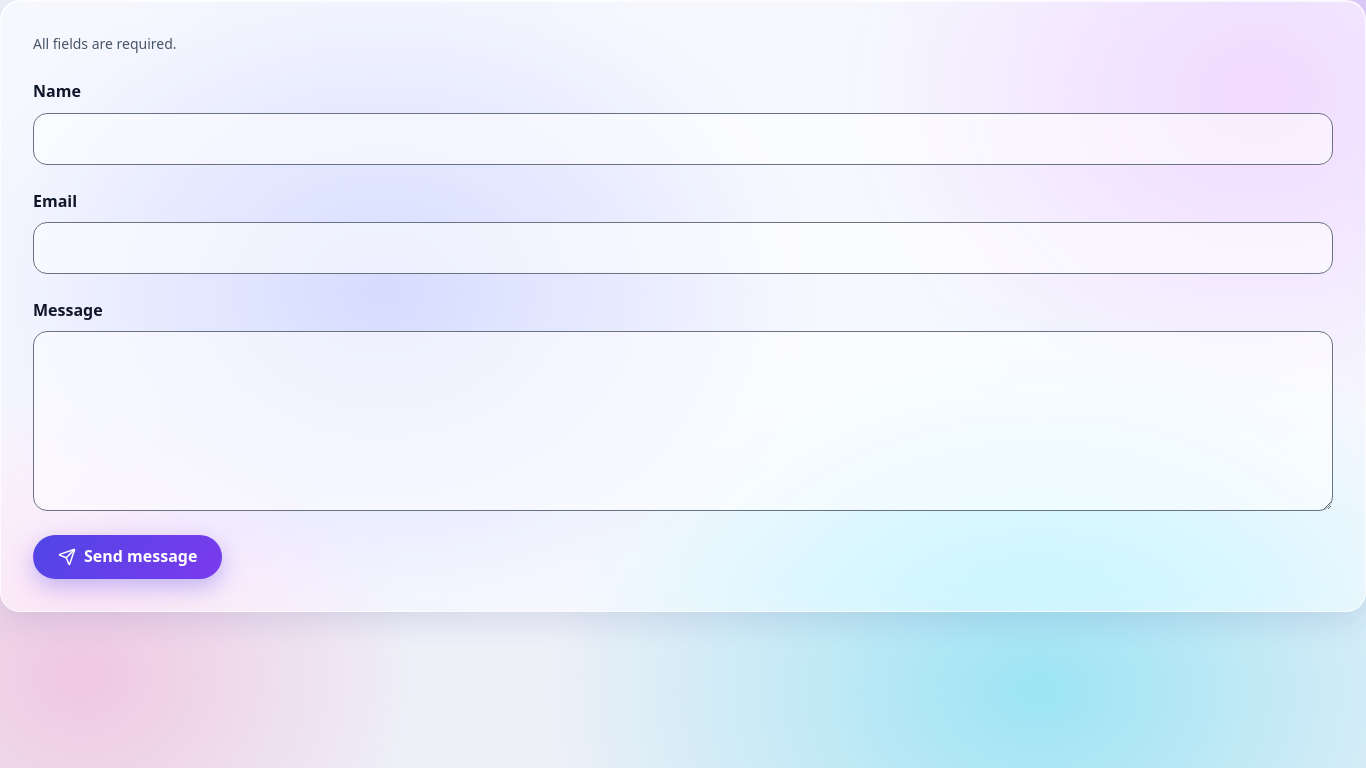
Test: ContactForm › reports a delivery failure honestly, keeps the text, and offers the direct email
Type "Priya" into the field labelled "Name".
click(683, 139); type("Priya")  # box [33,113,1333,165]
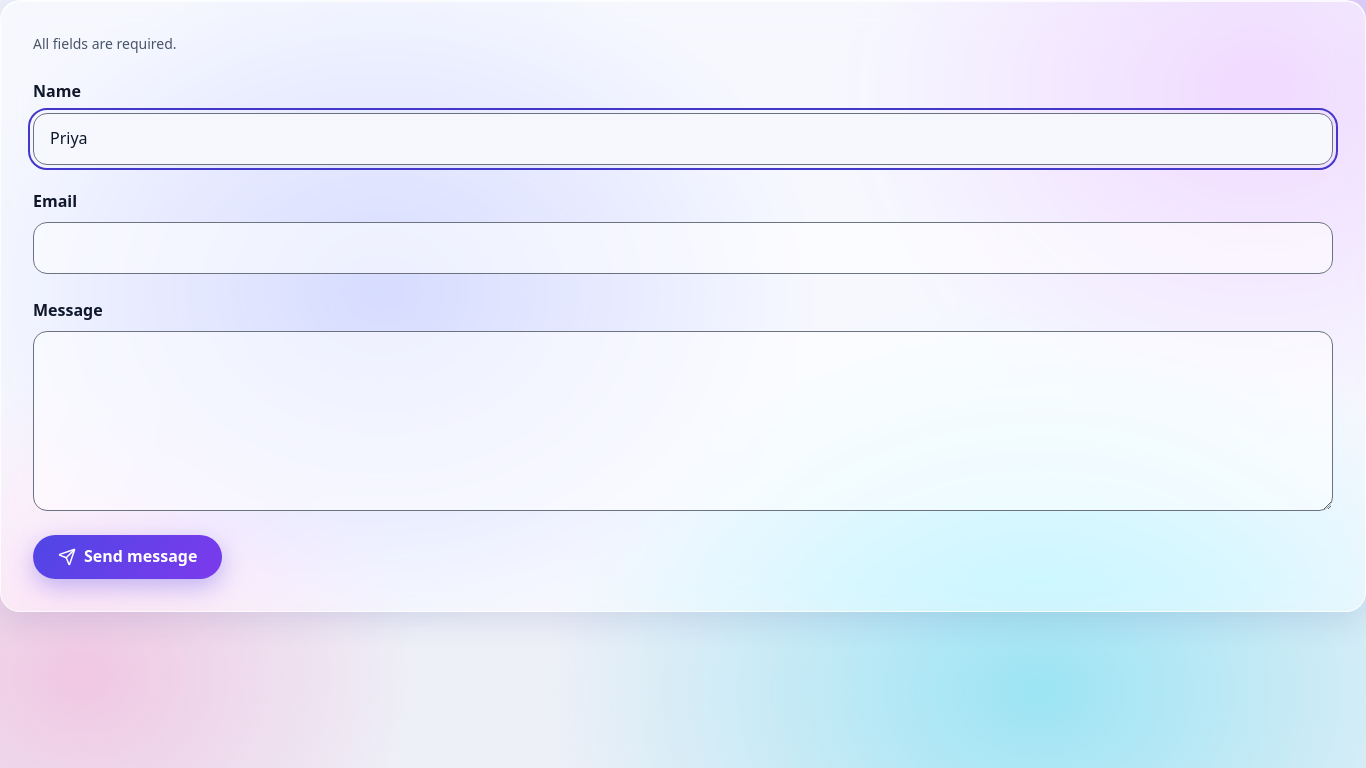
Type "priya@example.com" into the field labelled "Email".
click(683, 248); type("priya@example.com")  # box [33,222,1333,274]
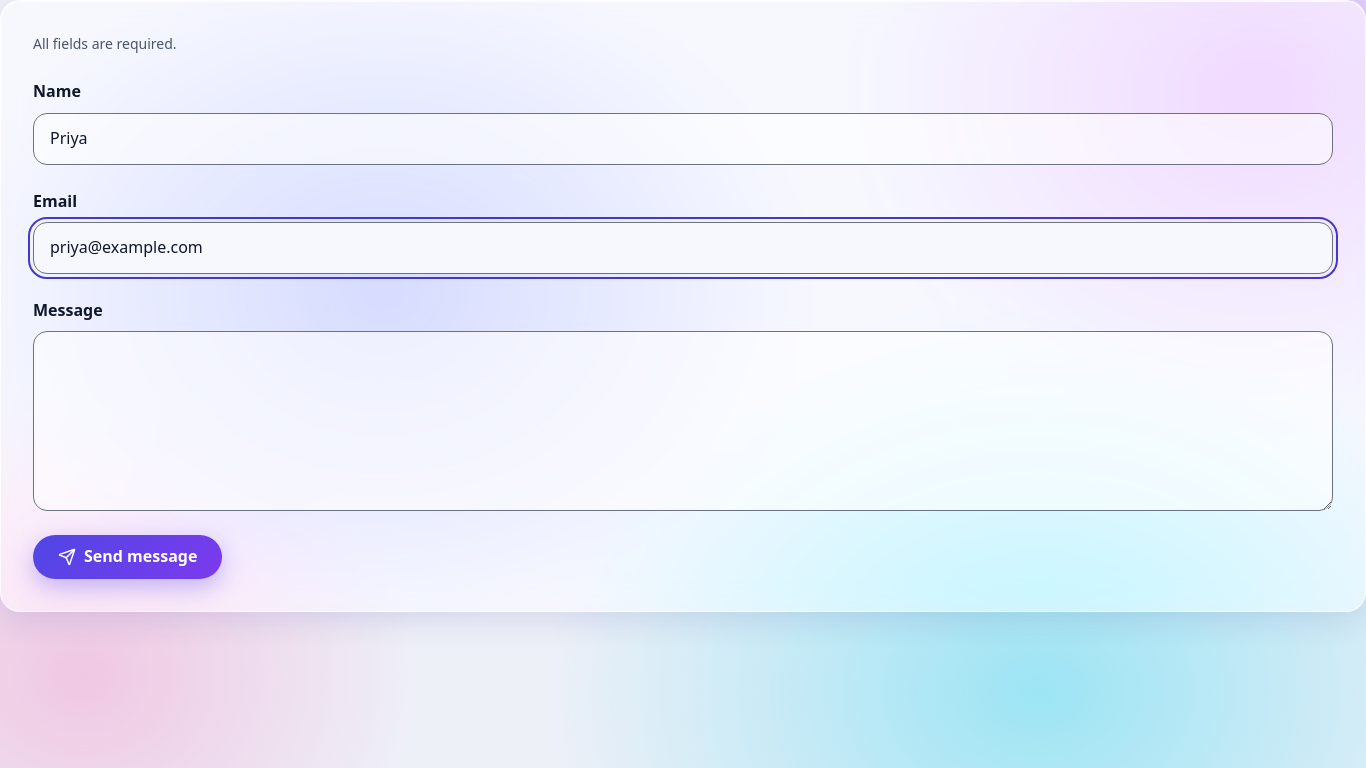
Type "Hello" into the text box labelled "Message".
click(683, 421); type("Hello")  # box [33,331,1333,511]
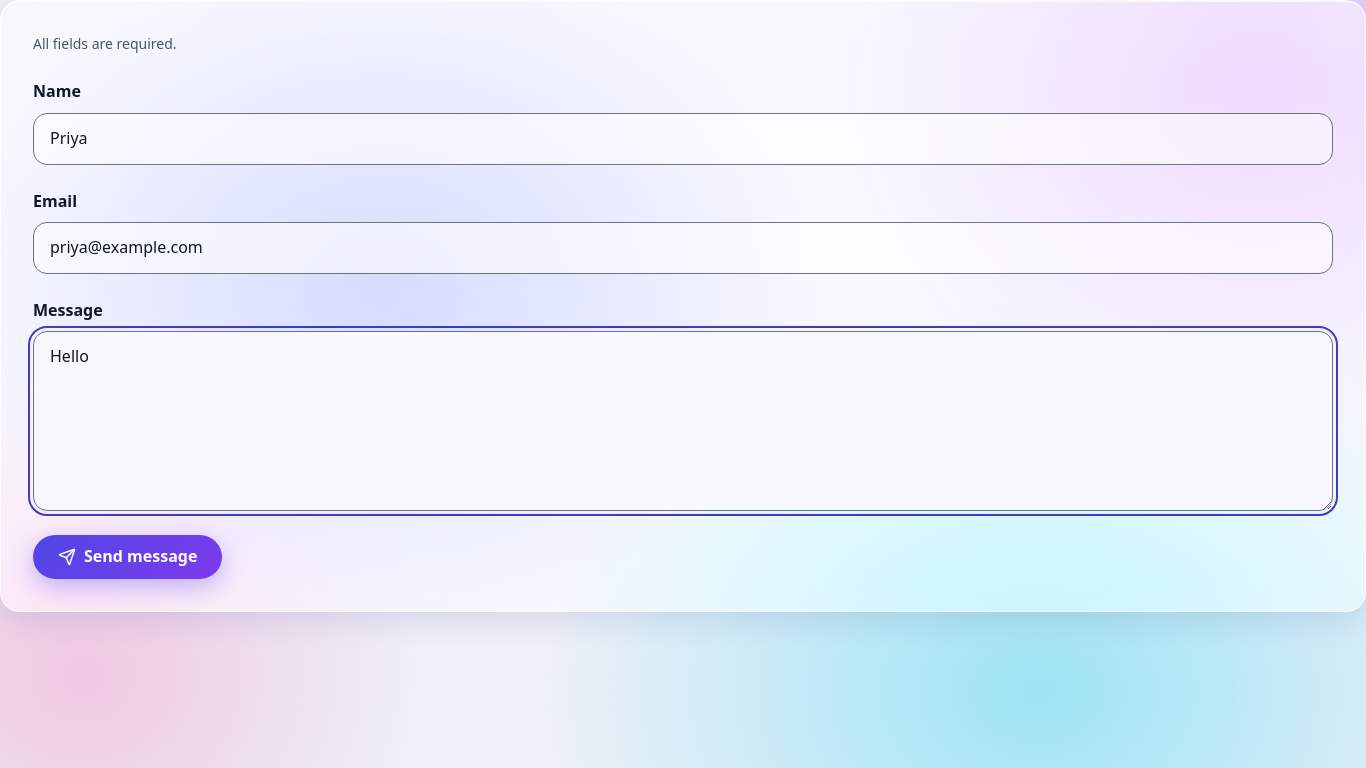
Click the button "Send message".
click(128, 557)  # box [33,535,222,579]
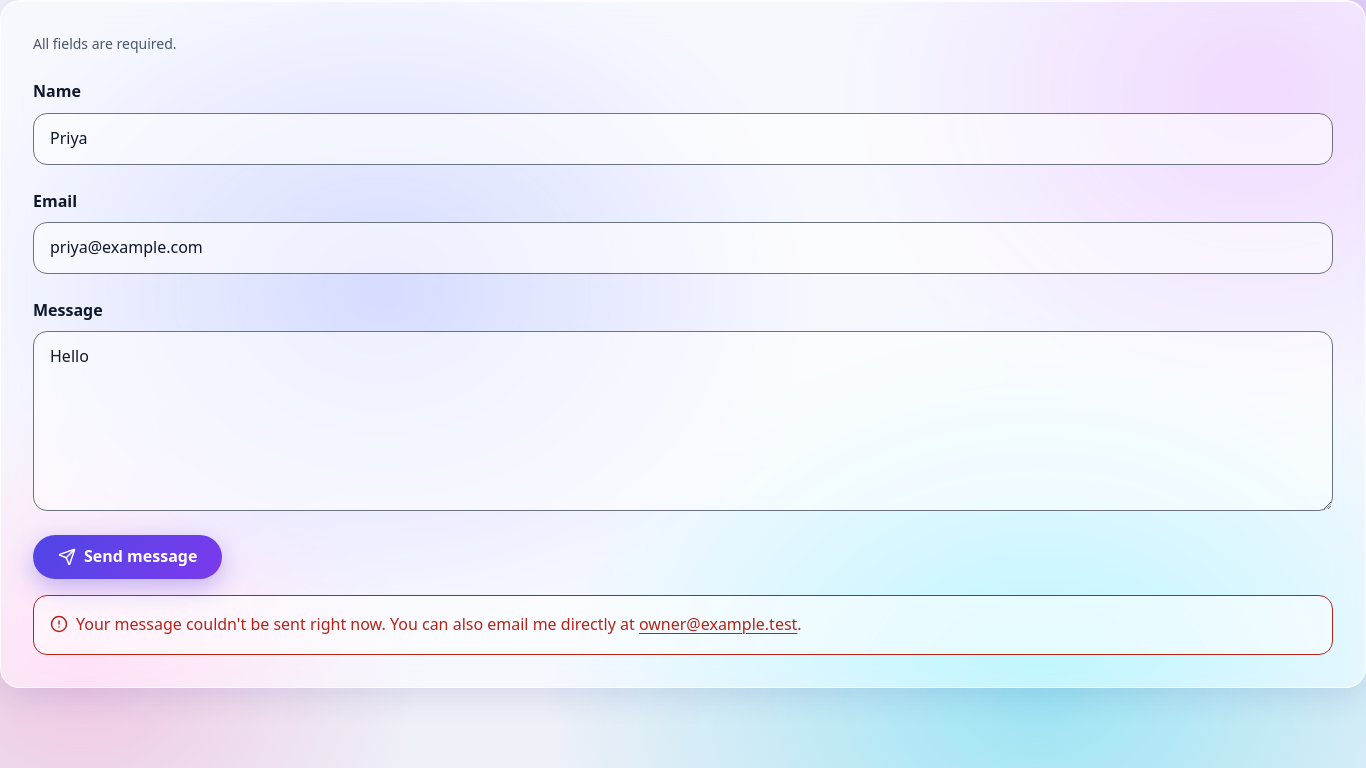
Now the text "Your message couldn't be sent right now." is shown, box [76,613,386,635]
